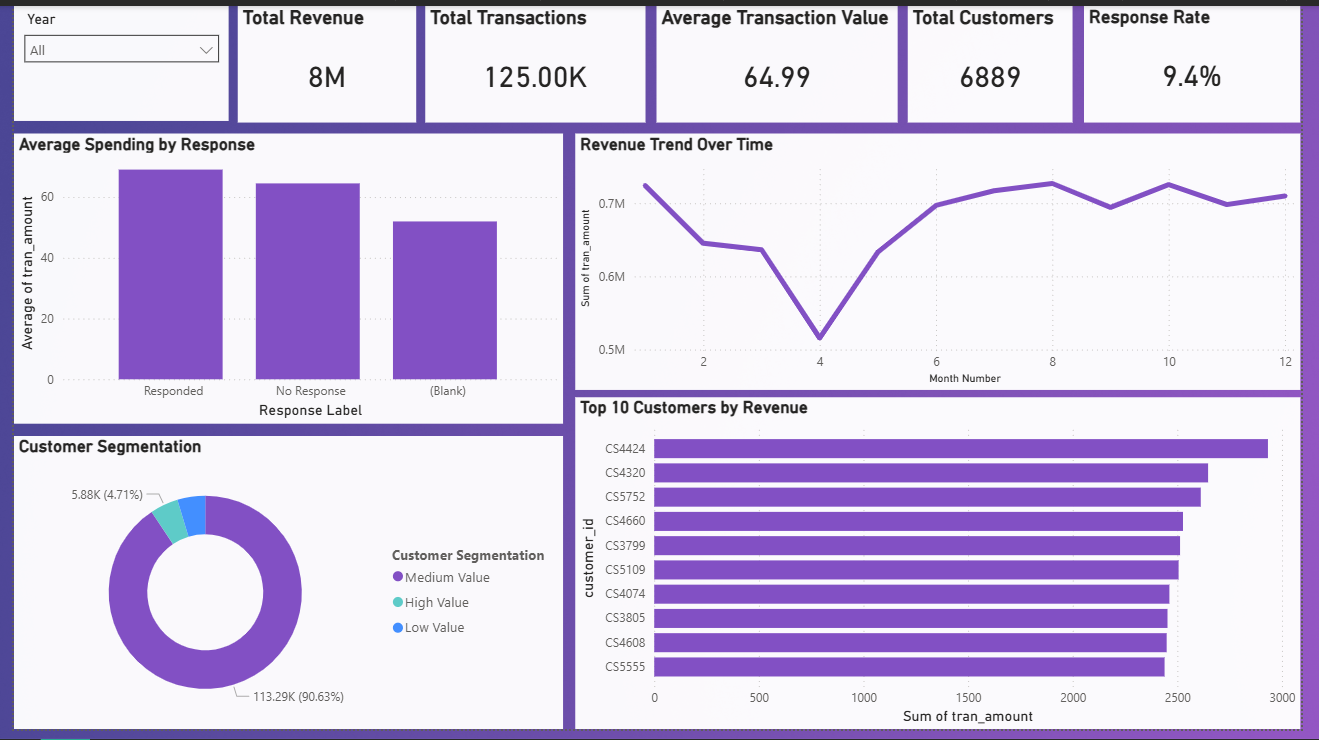

Layout of this report page (visuals, bound fields, positions):
{"tool":"powerbi","page":{"name":"Page 1","canvas":[1280,720],"ordinal":0},"visuals":[{"type":"card","title":"Total Revenue","fields":{"Values":["Sum(Retail_Data_Transactions.tran_amount)"]},"box":[222.7,0,177.9,115.7],"z":0},{"type":"card","title":"Total Transactions","fields":{"Values":["CountNonNull(Retail_Data_Transactions.tran_amount)"]},"box":[409.3,0,218.9,115.7],"z":1000},{"type":"card","title":"Average Transaction Value","fields":{"Values":["Avg(Retail_Data_Transactions.tran_amount)"]},"box":[639.4,0,240.1,115.7],"z":2000},{"type":"card","title":"Total Customers","fields":{"Values":["Count(Retail_Data_Transactions.customer_id)"]},"box":[889.4,0,164.2,115.7],"z":3000},{"type":"card","title":"Response Rate","fields":{"Values":["Retail_Data_Response.Response Rate"]},"box":[1064.8,0,215.2,115.7],"z":4000},{"type":"lineChart","title":"Revenue Trend Over Time","fields":{"Category":["Retail_Data_Transactions.Month Number"],"Y":["Sum(Retail_Data_Transactions.tran_amount)"]},"box":[558.5,126.9,721.5,255],"z":5000},{"type":"donutChart","title":"Customer Segmentation","fields":{"Y":["CountNonNull(Retail_Data_Transactions.customer_id)"],"Category":["Retail_Data_Transactions.Customer Segmentation"]},"box":[0,427.9,546.1,292.3],"z":6000},{"type":"clusteredColumnChart","title":"Average Spending by Response","fields":{"Y":["Avg(Retail_Data_Transactions.tran_amount)"],"Category":["Retail_Data_Response.Response Label"]},"box":[0,126.9,546.1,288.6],"z":7000},{"type":"barChart","title":"Top 10 Customers by Revenue","fields":{"Category":["Retail_Data_Transactions.customer_id"],"Y":["Sum(Retail_Data_Transactions.tran_amount)"]},"box":[558.5,389.4,721.5,330.9],"z":8000},{"type":"slicer","fields":{"Values":["Retail_Data_Transactions.Year"]},"box":[0,0,214,114.4],"z":8001}]}

Visuals, with their boxes in screenshot pixels (x1, y1, x2, y2), scaled from the page's 1280x720 canvas onto the 1319x740 screenshot:
"Total Revenue" card: 229:0:413:119
"Total Transactions" card: 422:0:647:119
"Average Transaction Value" card: 659:0:906:119
"Total Customers" card: 916:0:1086:119
"Response Rate" card: 1097:0:1318:119
"Revenue Trend Over Time" lineChart: 576:130:1318:393
"Customer Segmentation" donutChart: 0:440:563:739
"Average Spending by Response" clusteredColumnChart: 0:130:563:427
"Top 10 Customers by Revenue" barChart: 576:400:1318:739
slicer - Retail_Data_Transactions.Year: 0:0:221:118
